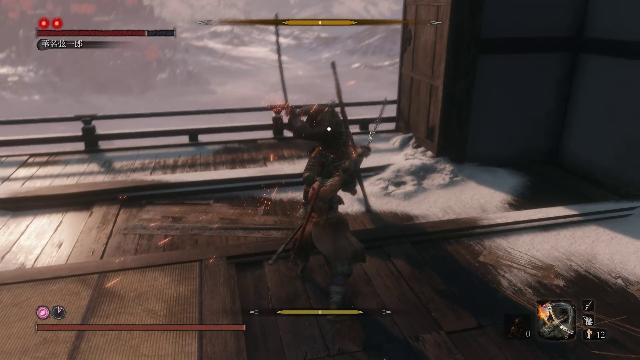sk: (280, 134, 376, 319)
